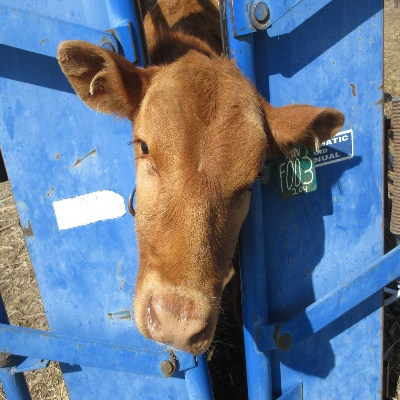fidget_spinner: (142, 285, 210, 350)
